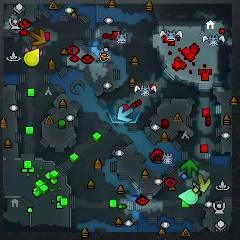p2: (178, 189, 199, 205)
p4: (23, 48, 40, 67)
x1: (24, 43, 42, 55)
x2: (193, 173, 210, 192)
x3: (118, 105, 134, 122)
x4: (181, 159, 198, 178)
x5: (29, 29, 47, 45)
